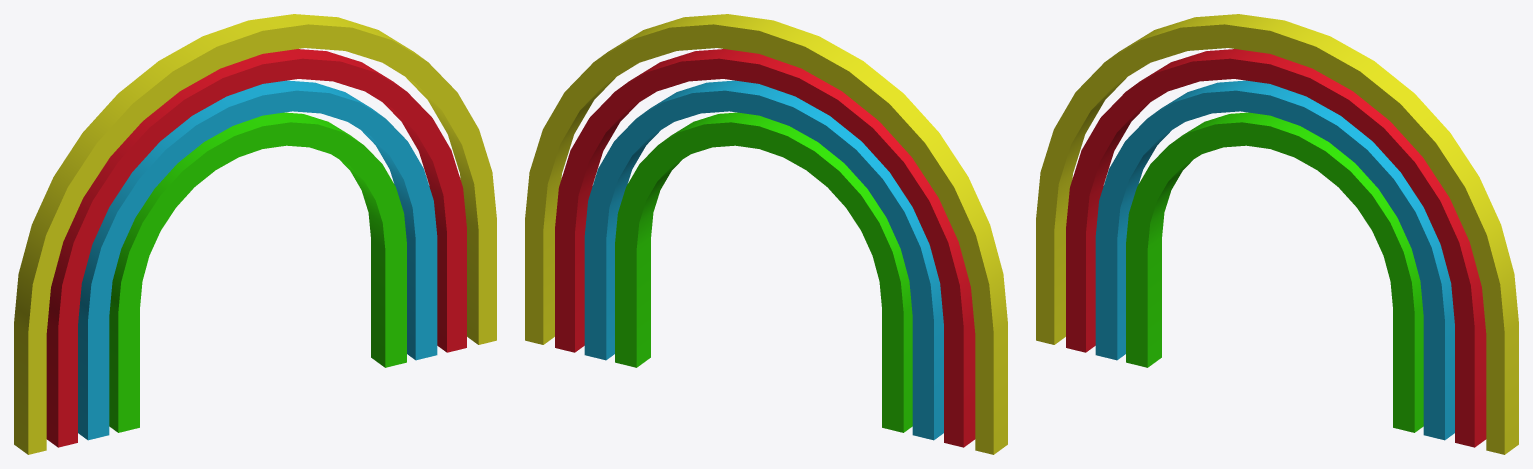
The model's file is Gate.fbx.
3 renders of one model, left to right at view 1: azimuth 30°, elevation 25°; view 2: azimuth 150°, elevation 25°; view 3: azimuth 330°, elevation 25°, orthographic.
Parts seen in each view (by area): view 1: Cylinder.001; view 2: Cylinder.001; view 3: Cylinder.001.
Boxes of the visible parts, x1,y1,x2,y2 form: Cylinder.001: (14, 14, 496, 454); Cylinder.001: (525, 14, 1007, 454); Cylinder.001: (1036, 14, 1518, 454).
Bounding box in the file's own units: 325 × 243 × 17.09.
